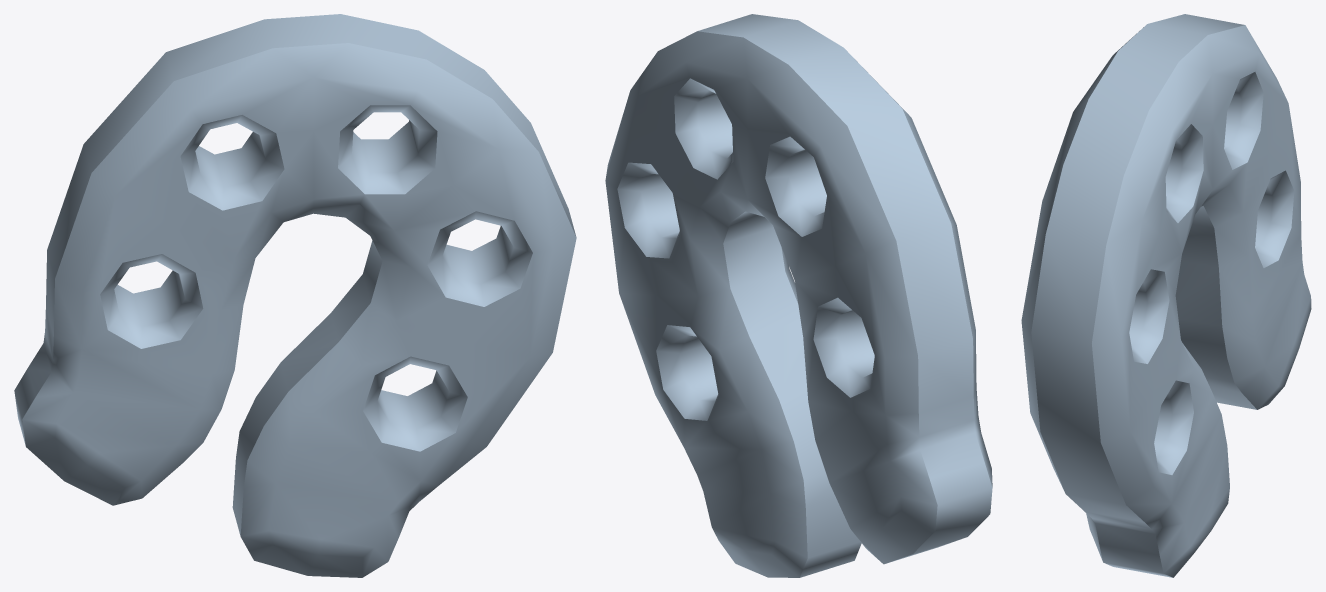
3 views of the same model, side by side, from view 1: azimuth 30°, elevation 25°; view 2: azimuth 150°, elevation 25°; view 3: azimuth 270°, elevation 25° (orthographic). The views are drawn at different scales.
Visible parts, largest first — view 1: model_0.043; view 2: model_0.043; view 3: model_0.043.
Boxes of the visible parts, box(x1,y1,x2,y2) form: model_0.043: box(14, 14, 576, 577); model_0.043: box(605, 14, 992, 577); model_0.043: box(1021, 14, 1311, 577).
Size of the model in its own units: 3.52 by 3.86 by 1.99.
